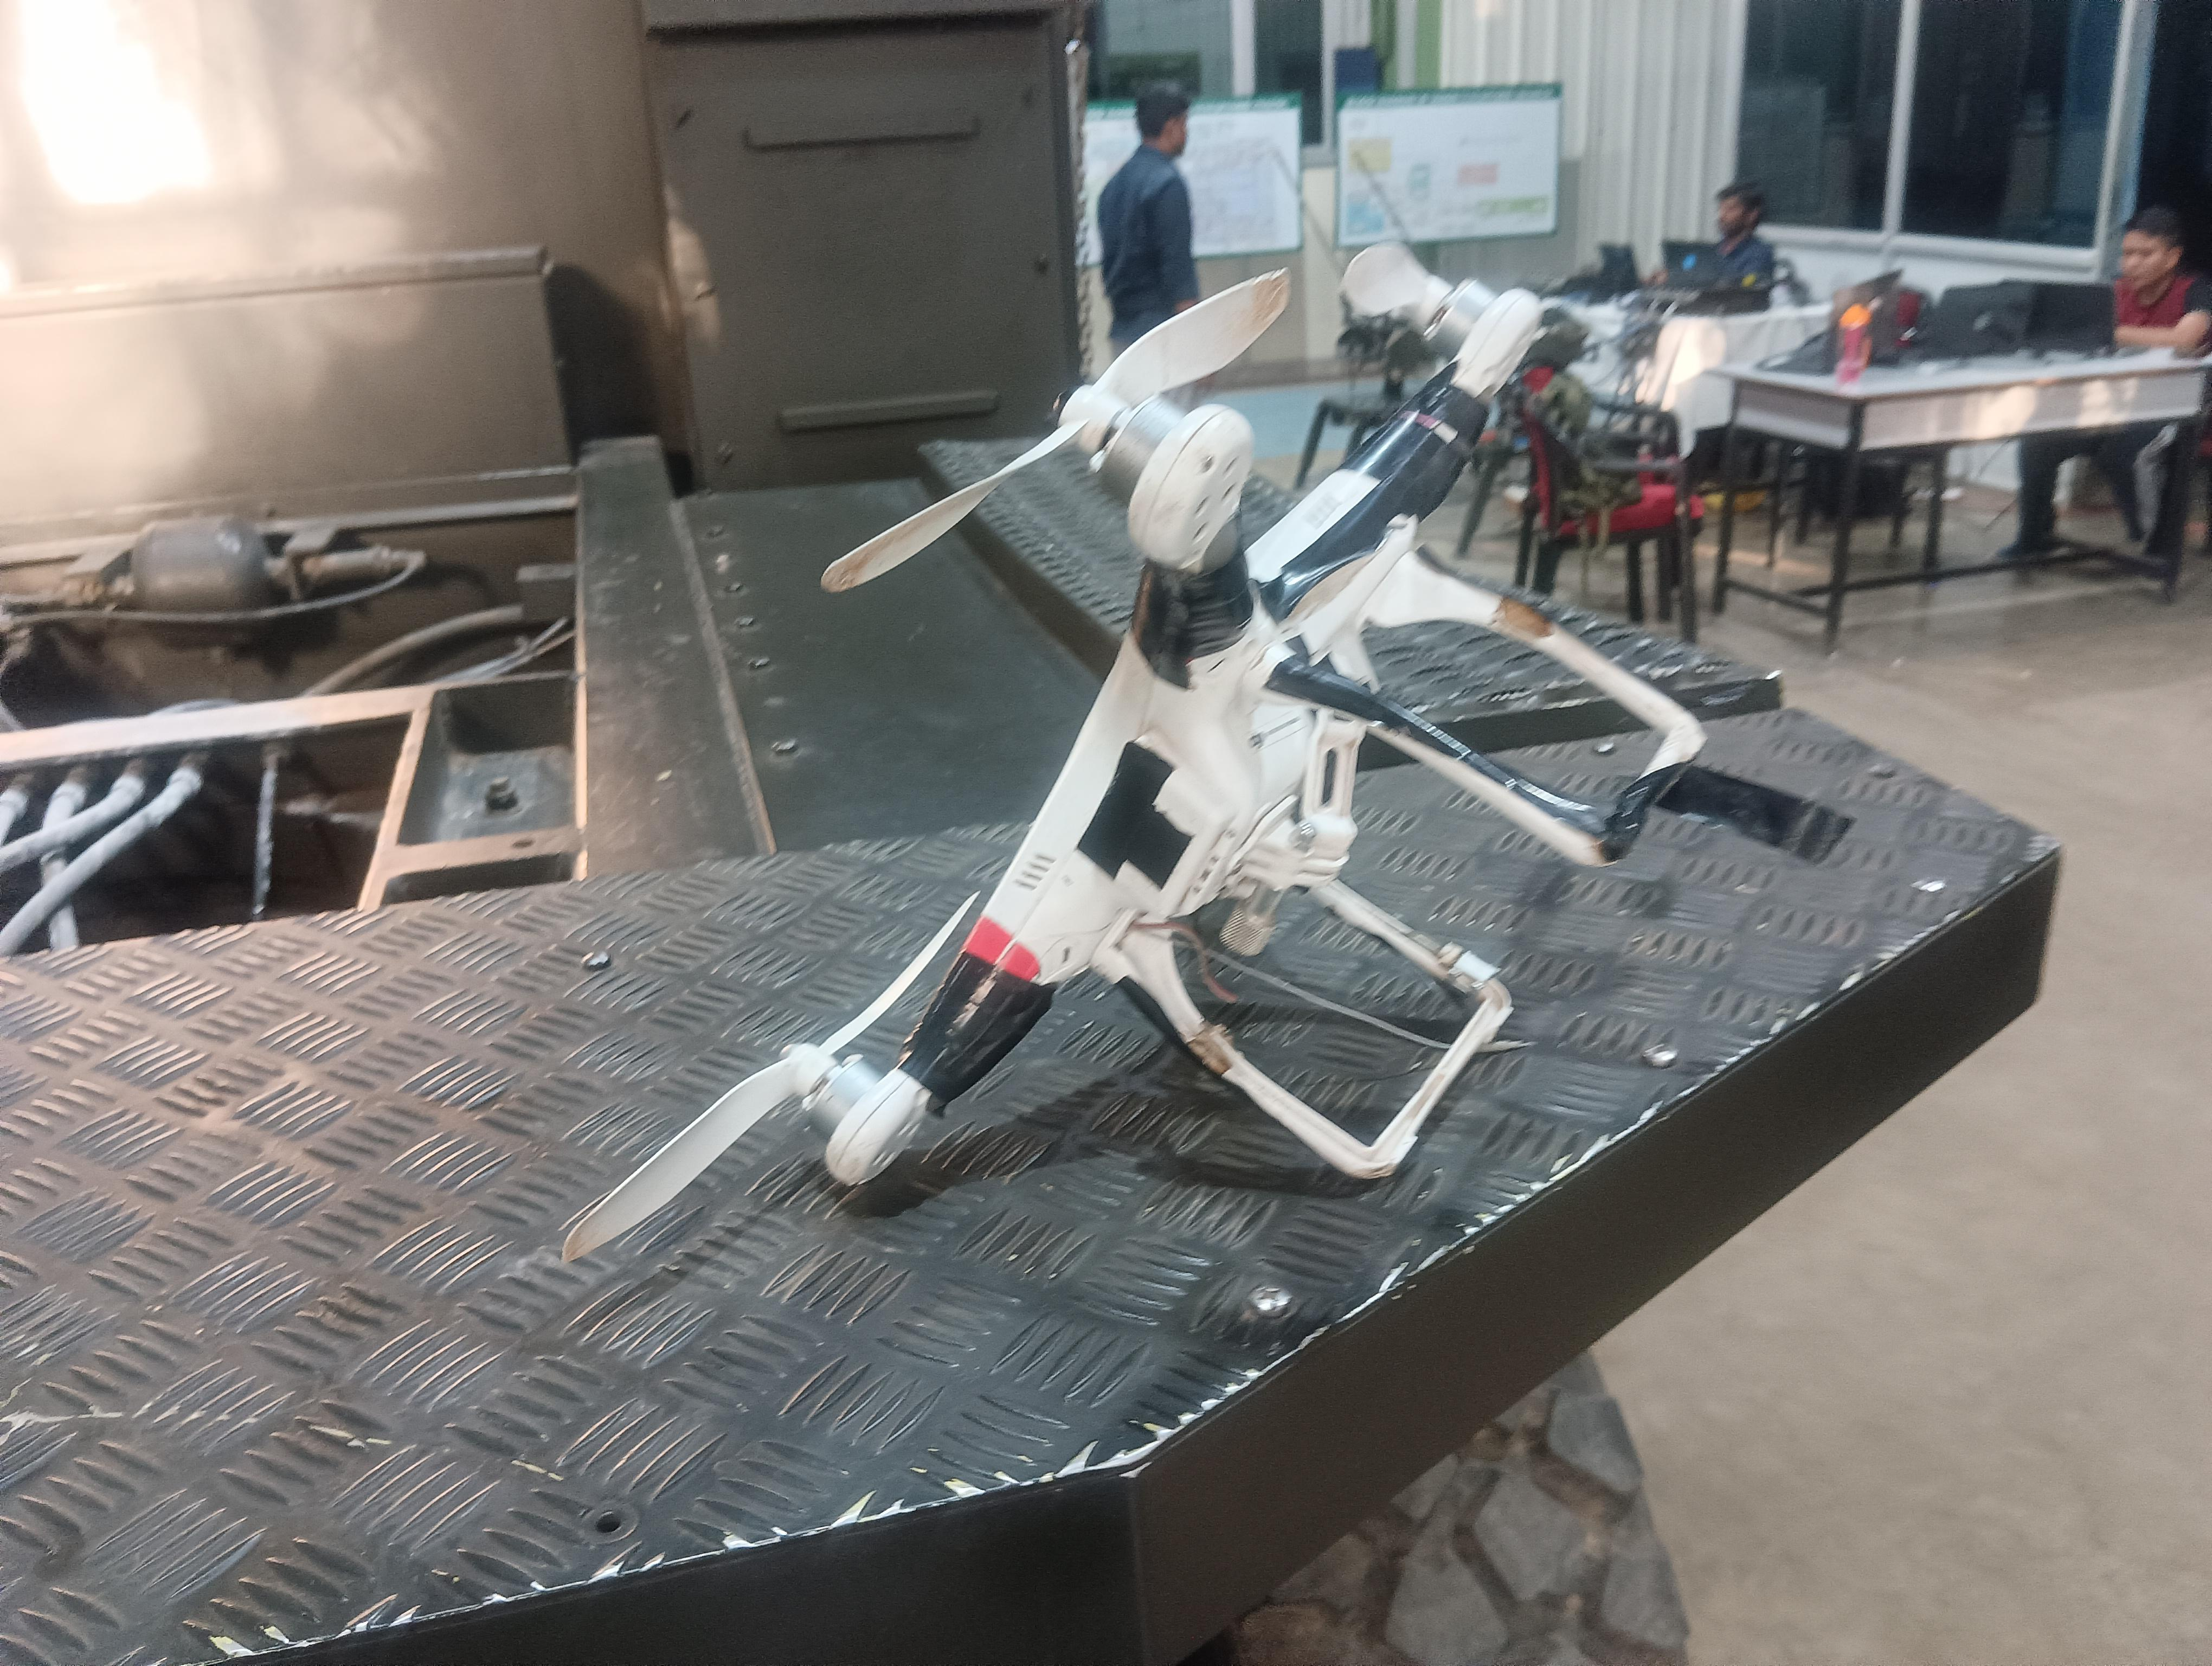drone: (467, 201, 1859, 1367)
